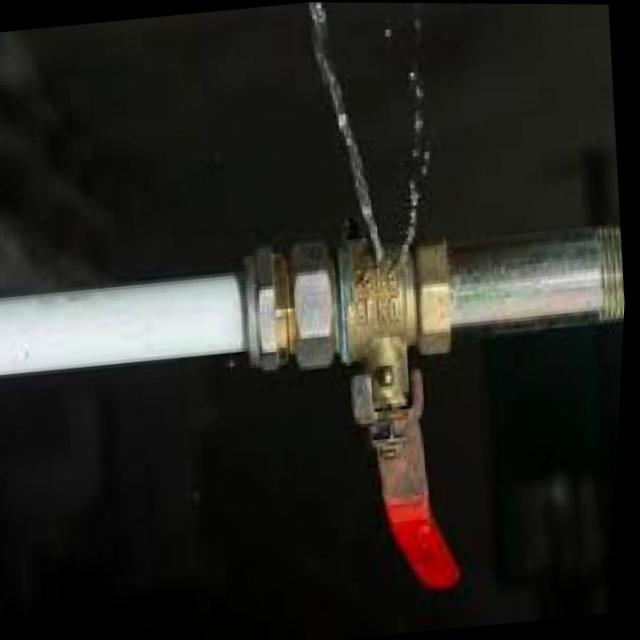leak: (285, 2, 454, 290)
